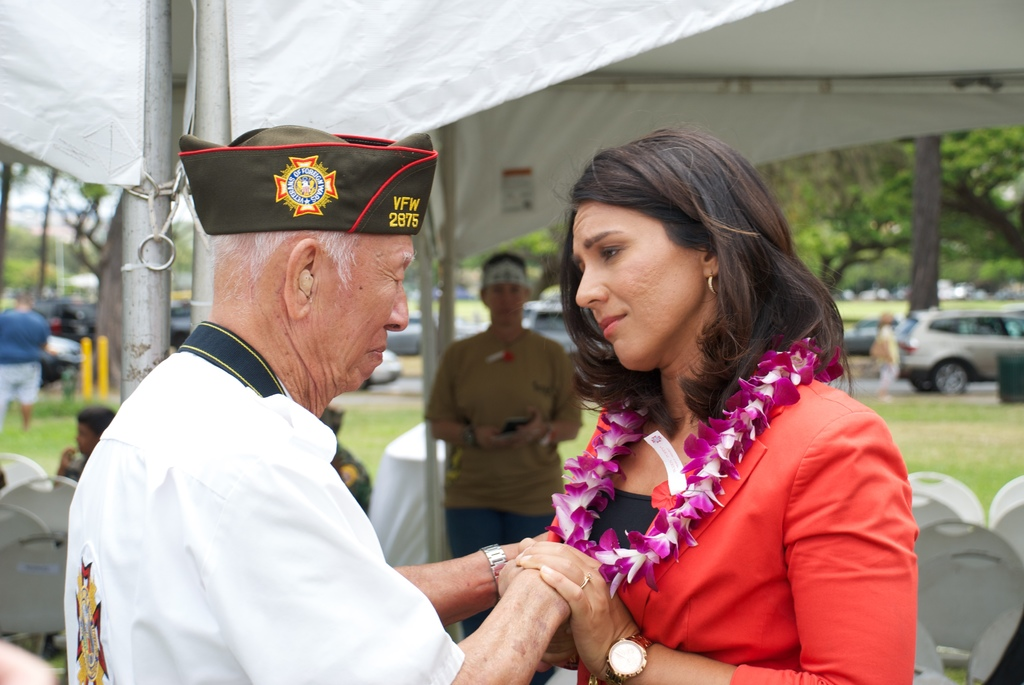Car: (876, 302, 1021, 403), (520, 296, 586, 359), (387, 320, 469, 355), (833, 316, 881, 349)
